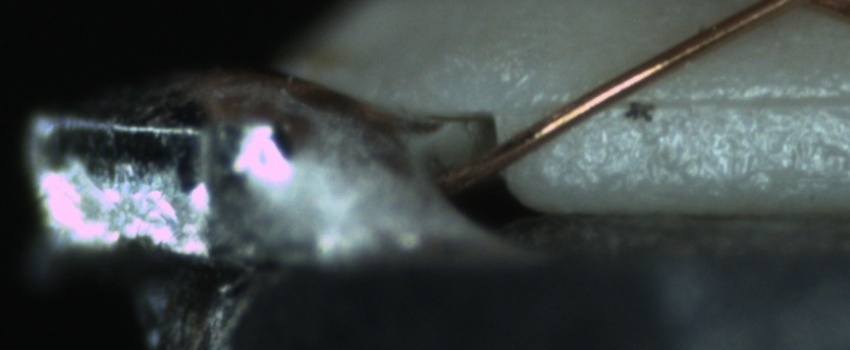CL: (750, 0, 837, 17)
DL: (557, 71, 849, 131)
